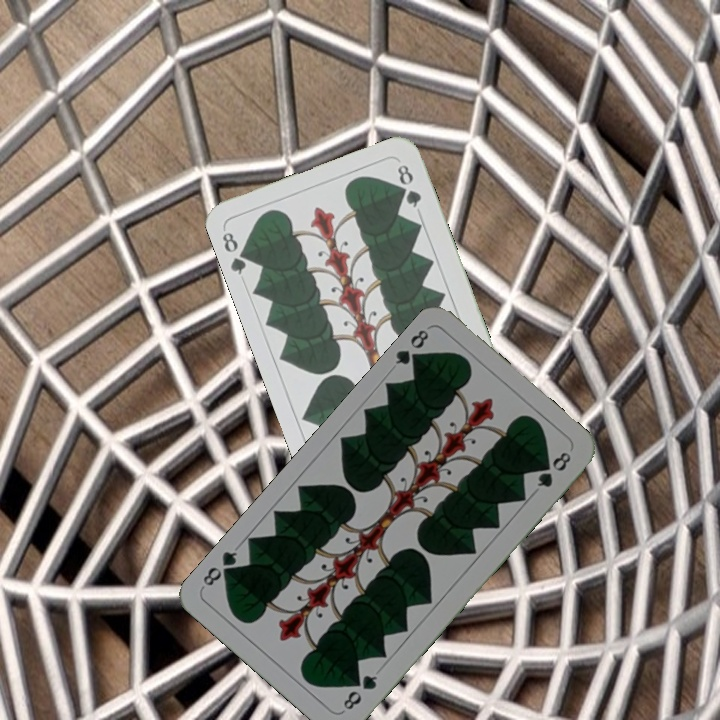G8: (391, 325, 432, 371), (218, 228, 255, 278), (339, 670, 380, 713)
